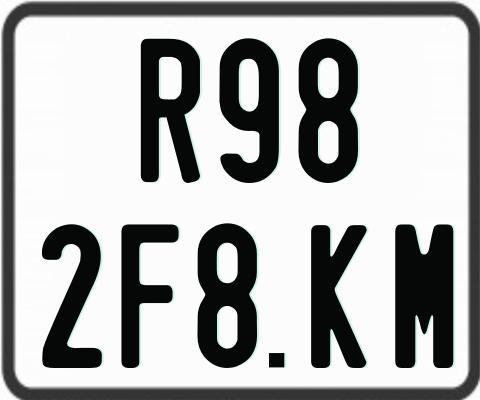2: (41, 224, 107, 372)
8: (196, 221, 260, 368), (295, 35, 356, 180)
9: (216, 38, 278, 184)
F: (121, 223, 180, 368)
K: (309, 225, 368, 370)
M: (392, 223, 450, 370)
R: (139, 39, 199, 183)
